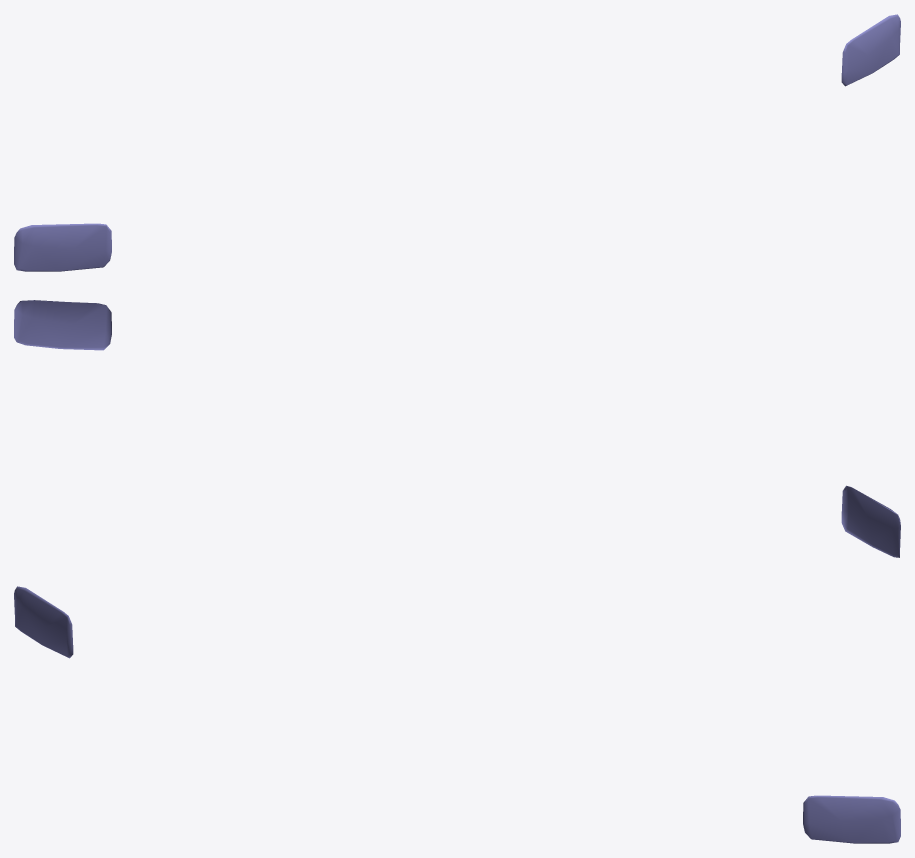
File: R34_FB02_Detail.fbx
3 views of the same model, one above another, from view 1: azimuth 30°, elevation 25°; view 2: azimuth 150°, elevation 25°; view 3: azimuth 330°, elevation 25° (orthographic).
Visible parts, largest first — view 1: R34_FB02_Detail; view 2: R34_FB02_Detail; view 3: R34_FB02_Detail.
Part boxes in pixels (box(x1,y1,x2,y2)): R34_FB02_Detail: box(14, 14, 900, 271); R34_FB02_Detail: box(14, 300, 900, 557); R34_FB02_Detail: box(14, 586, 900, 843).
Size of the model in its own units: 139 by 7.1 by 5.64.
